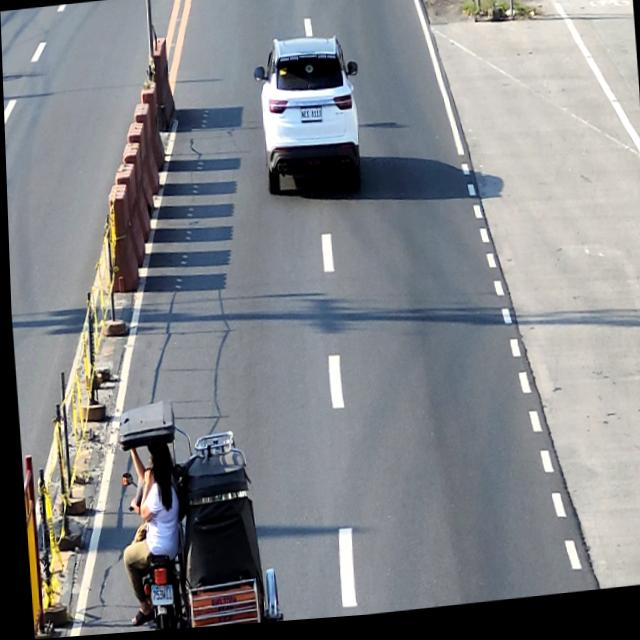Car: (252, 32, 366, 206)
License-Plate: (146, 586, 168, 608), (299, 111, 321, 128)
Tricycle: (108, 391, 276, 634)
